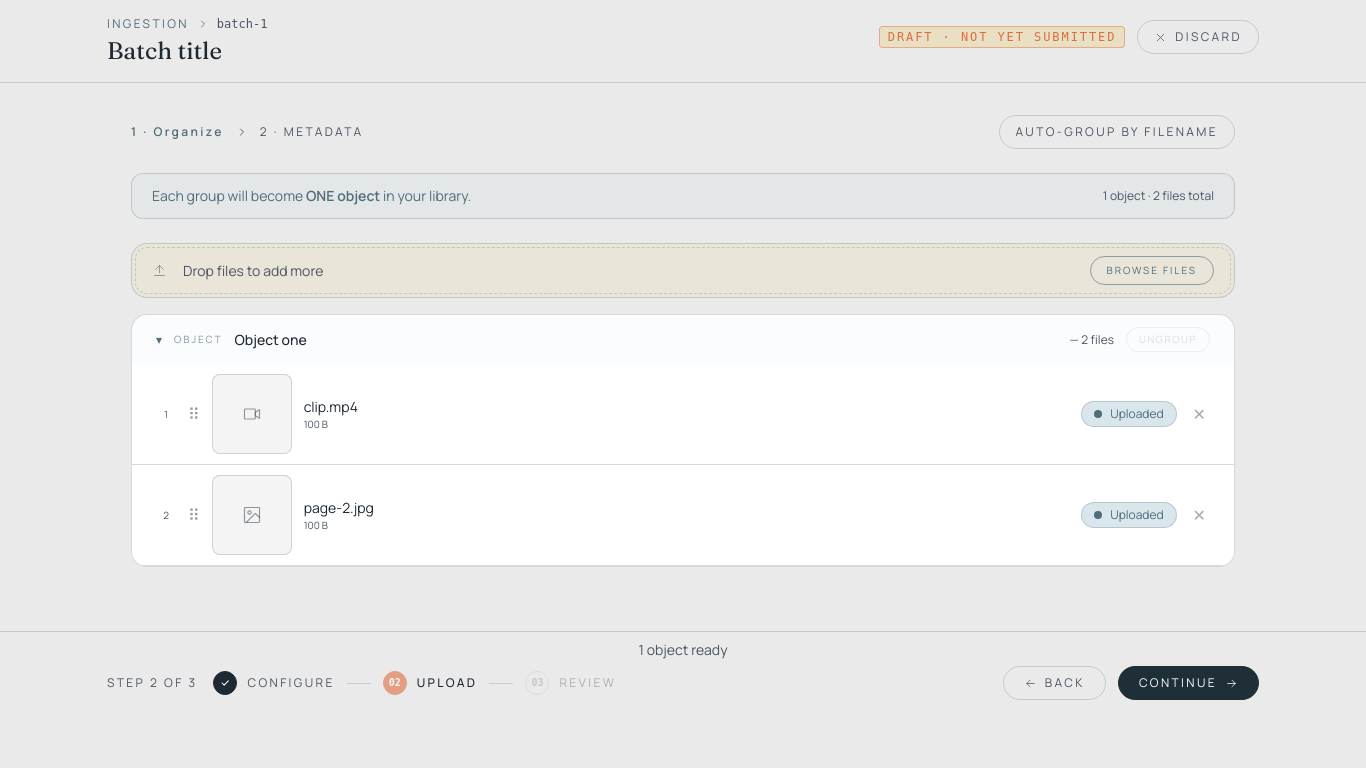
it: /ingestion/[batchId]/setup +page.svelte › does not poll a pending video preview and presents the deferred state
The width and height of the screenshot is (1366, 768).
Click the button "Continue" at (1188, 683), box 1118,666 -> 1259,700
Wait 18200 ms
(page scrolled)
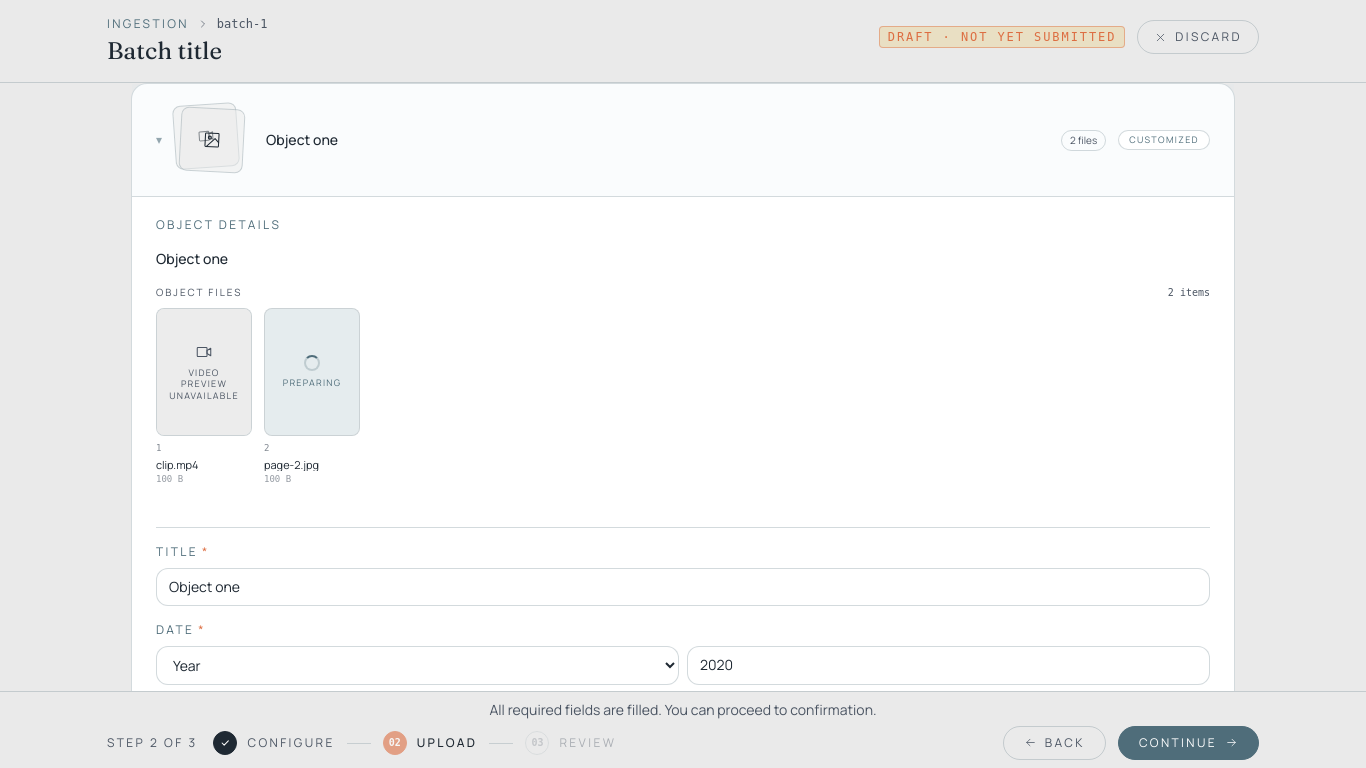
Expected: the text "Video preview unavailable" is shown, 165,367 -> 243,401
